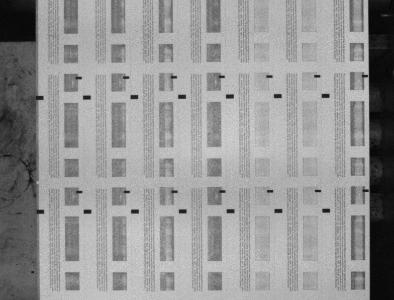backgroundclutter: (31, 270, 35, 274), (36, 181, 39, 184)
qblock: (36, 209, 45, 214), (322, 208, 331, 213), (36, 95, 44, 100), (178, 94, 186, 99), (83, 209, 92, 213), (130, 95, 139, 99), (179, 209, 187, 213), (131, 209, 139, 213), (227, 209, 235, 213), (275, 209, 283, 213), (274, 94, 282, 98), (226, 94, 234, 98), (322, 94, 330, 98), (83, 95, 91, 99)
smallqblock: (267, 189, 274, 193), (171, 75, 178, 79), (363, 74, 369, 78), (76, 190, 83, 193), (315, 189, 322, 192), (363, 189, 370, 192), (172, 190, 178, 193), (220, 190, 226, 193), (124, 190, 130, 193), (76, 76, 82, 79), (219, 75, 225, 78), (123, 76, 129, 79), (315, 75, 321, 78), (267, 75, 273, 78)
